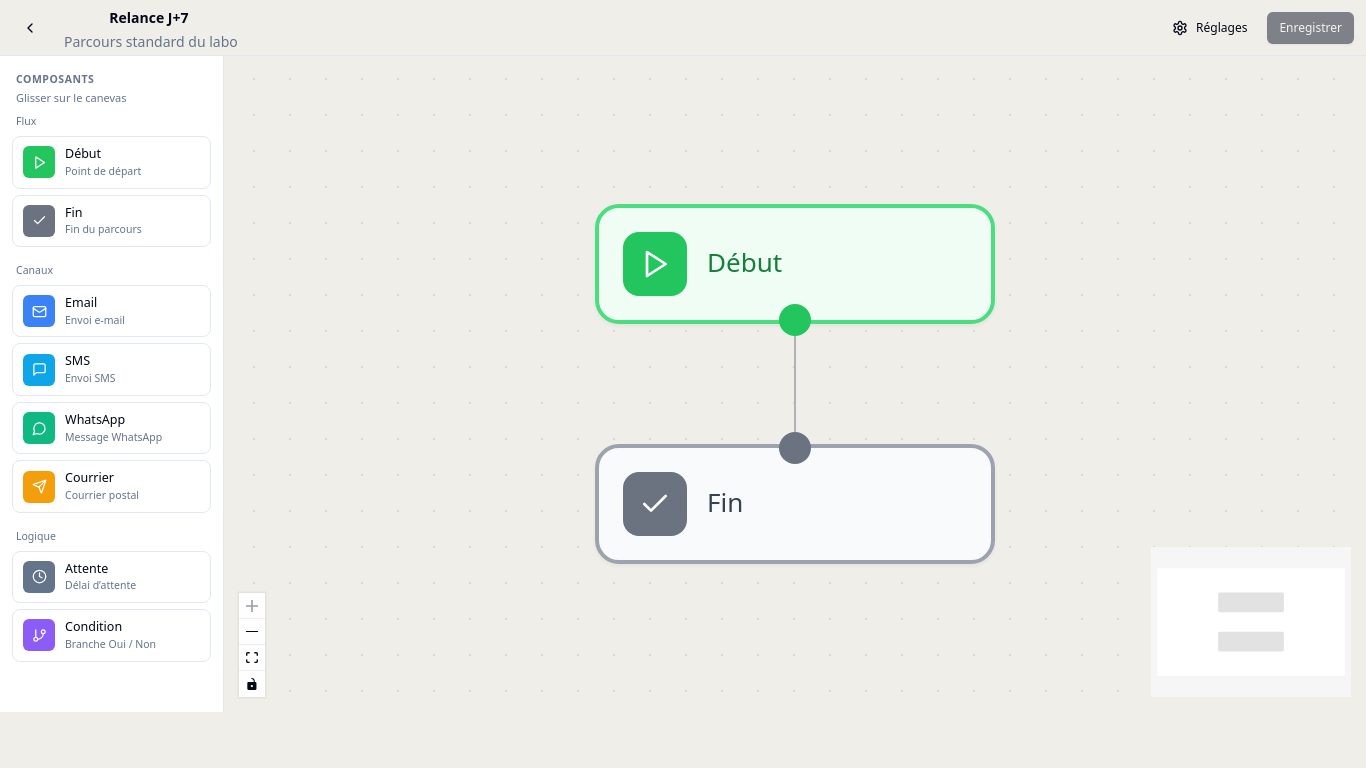
Test: WorkflowEditPage › renders the description Textarea seeded with the workflow description
Click the button with aria-label "Réglages du workflow" at (1210, 28), box [1160,12,1259,44]
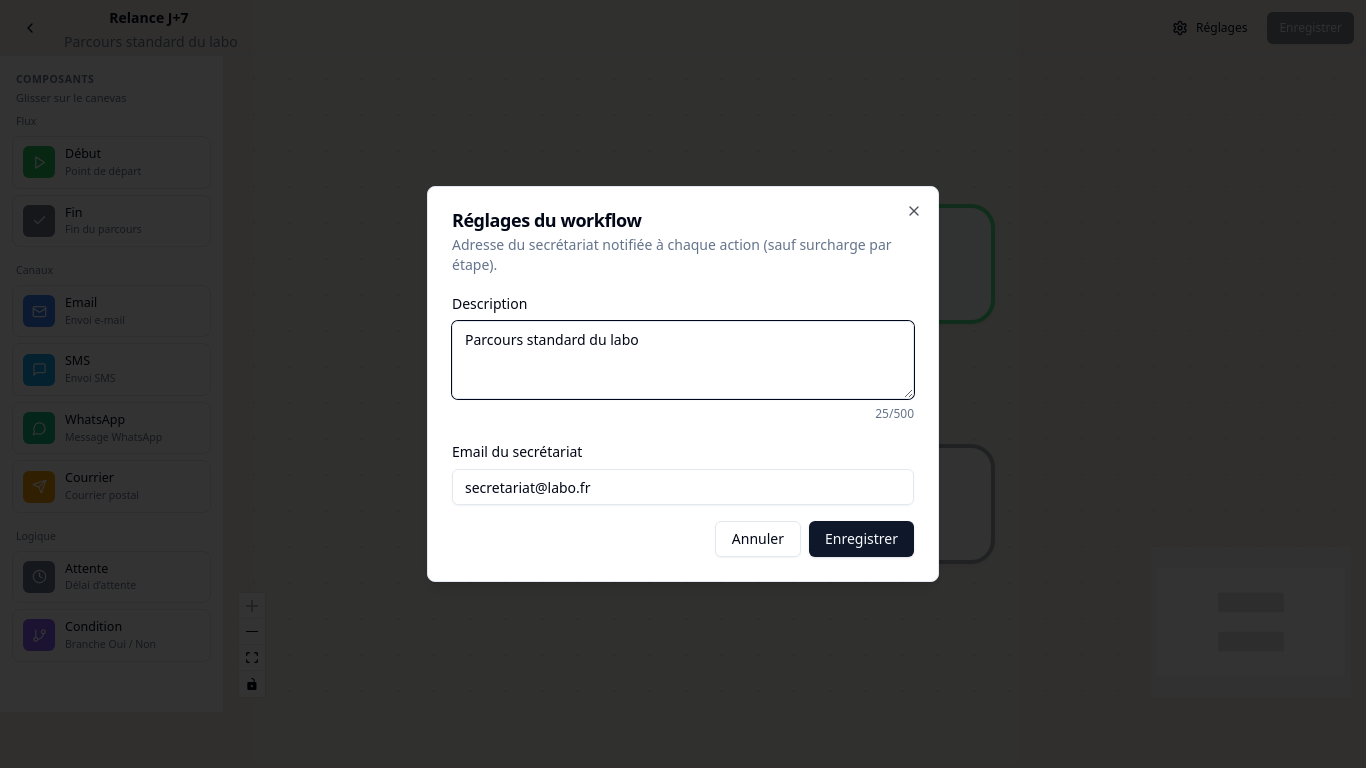
Check: the text box labelled "Description" holds "Parcours standard du labo", box [452,321,914,399]
